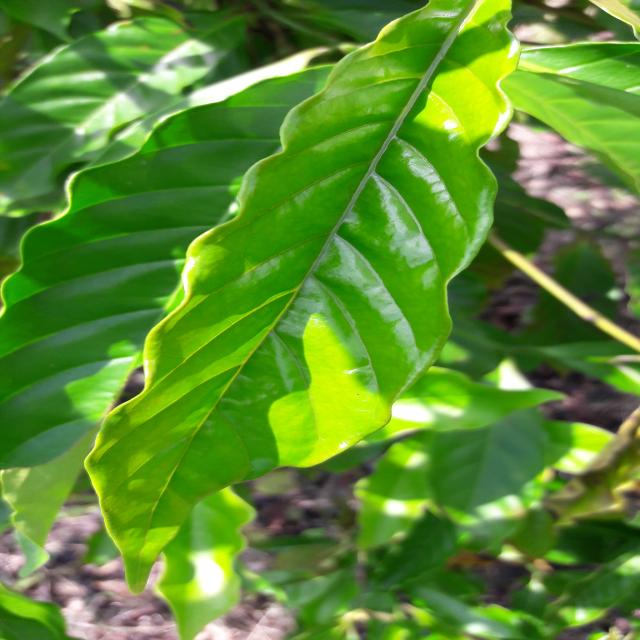Sanas: (82, 0, 518, 640)
